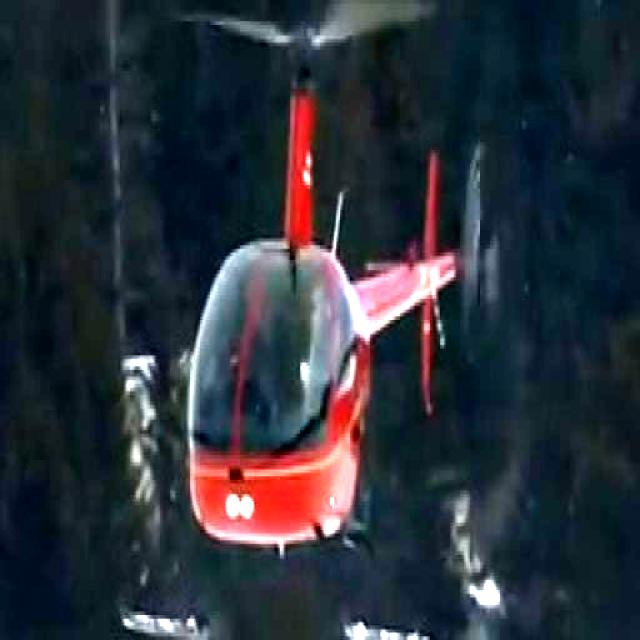drone: (115, 0, 511, 640)
